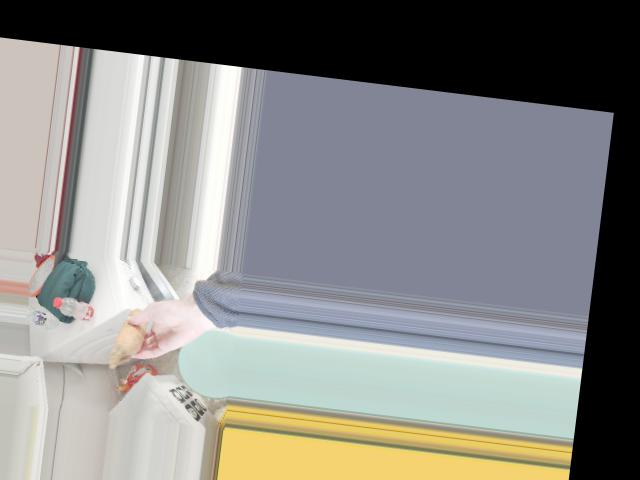sweet_potato: (114, 313, 146, 355)
